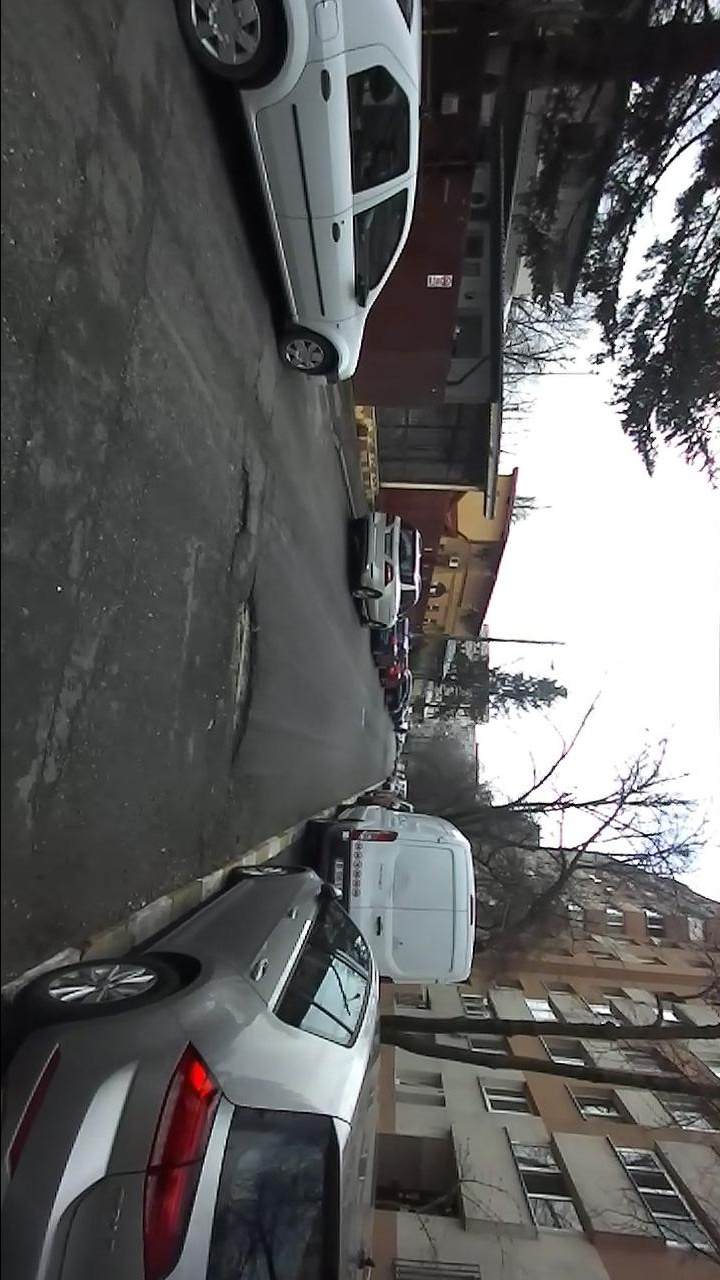pothole: (223, 577, 263, 774), (223, 455, 254, 564)
